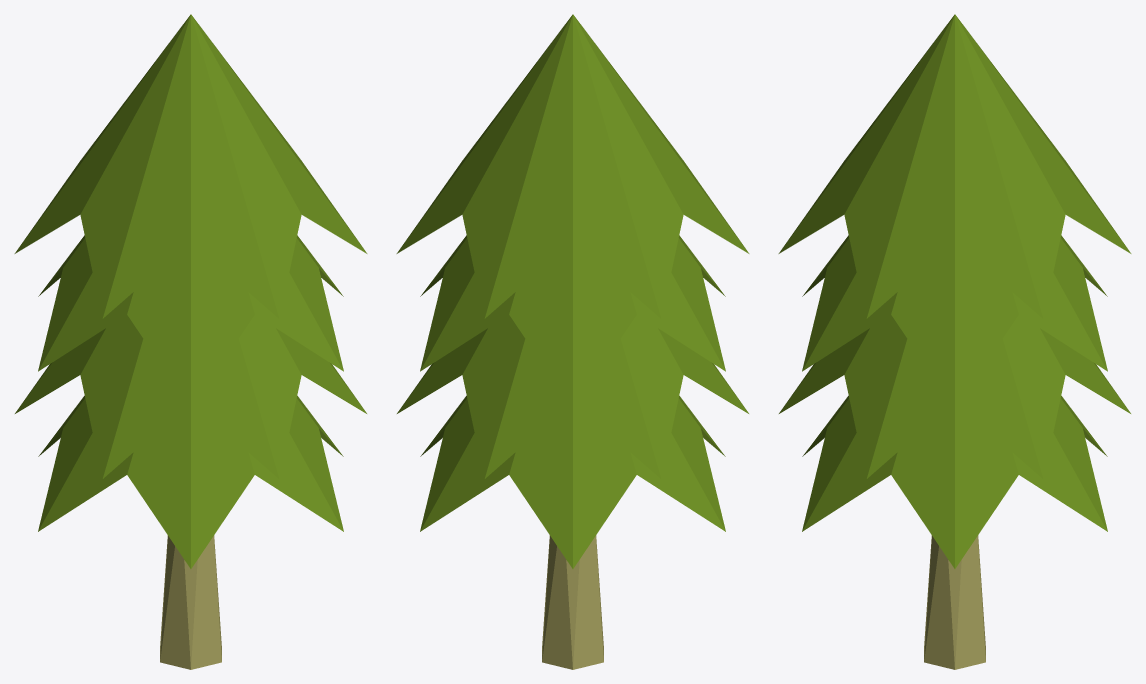
Rendered from wide_leaf_pine_small.fbx.
3 renders of one model, left to right at view 1: azimuth 30°, elevation 25°; view 2: azimuth 150°, elevation 25°; view 3: azimuth 270°, elevation 25°, orthographic.
Parts seen in each view (by area): view 1: C-leaves.001, C-leaves.002, C-leaves.003, C-leaves, G-Object.001; view 2: C-leaves.001, C-leaves.002, C-leaves.003, C-leaves, G-Object.001; view 3: C-leaves.001, C-leaves.002, C-leaves.003, C-leaves, G-Object.001.
Boxes of the visible parts, box(x1,y1,x2,y2) form: C-leaves.001: box(14, 14, 367, 318); C-leaves.002: box(15, 315, 366, 478); C-leaves.003: box(38, 235, 343, 408); C-leaves: box(38, 396, 343, 568); G-Object.001: box(160, 535, 221, 669); C-leaves.001: box(396, 14, 749, 318); C-leaves.002: box(397, 315, 748, 478); C-leaves.003: box(420, 235, 725, 408); C-leaves: box(420, 396, 725, 568); G-Object.001: box(542, 535, 603, 669); C-leaves.001: box(778, 14, 1131, 318); C-leaves.002: box(779, 315, 1130, 478); C-leaves.003: box(802, 235, 1107, 408); C-leaves: box(802, 396, 1107, 568); G-Object.001: box(924, 535, 985, 669).
Bounding box in the file's own units: 400 × 800 × 400.
